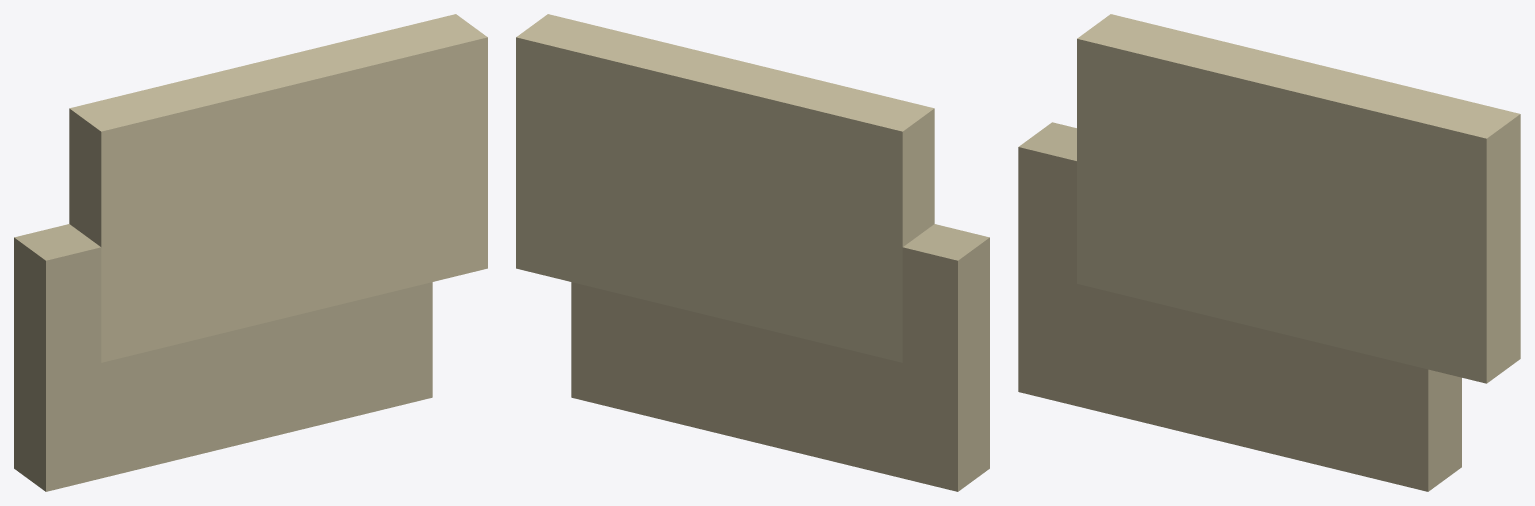
Rendered from artesonado_sauce_01.glb.
The picture shows the model from 3 angles, left to right: view 1: azimuth 30°, elevation 25°; view 2: azimuth 150°, elevation 25°; view 3: azimuth 330°, elevation 25°; orthographic projection. The views are drawn at different scales.
Parts seen in each view (by area): view 1: artesonado_sauce; view 2: artesonado_sauce; view 3: artesonado_sauce.
Part boxes in pixels (x1,y1,x2,y2): artesonado_sauce: (14, 14, 487, 491); artesonado_sauce: (516, 14, 989, 491); artesonado_sauce: (1018, 14, 1520, 491).
Size of the model in its own units: 0.7273 by 0.5455 by 0.0909.
